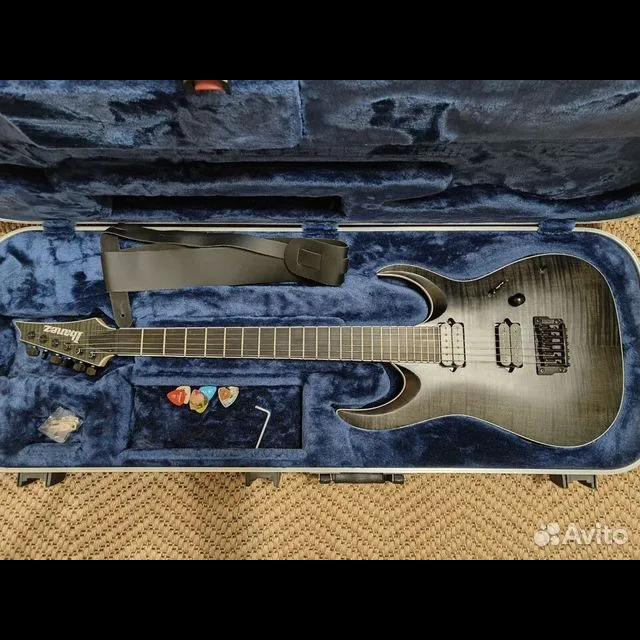Electric-Guitar: (13, 255, 624, 447)
